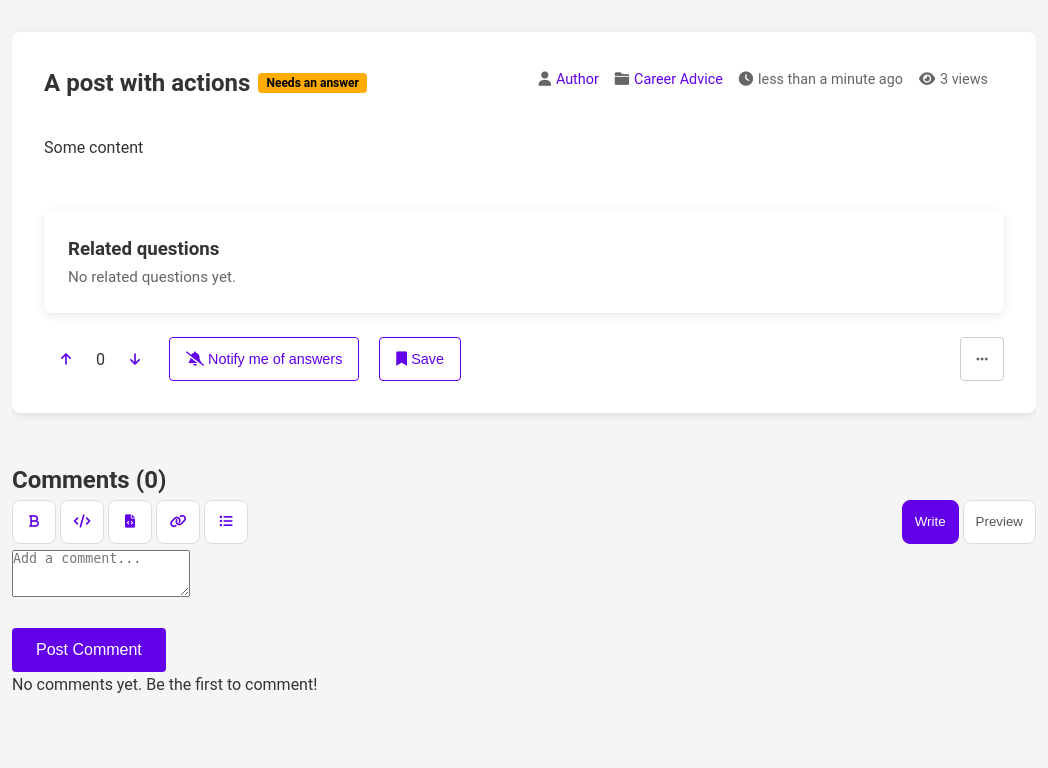
Test: PostDetail action row: inline reader actions vs. overflow menu › reveals Report behind the overflow toggle for a non-author reader, and nothing else
The image size is (1048, 768).
Check: the heading "A post with actions" is shown, box [44,64,250,102]
Click the button named "more actions" at (982, 359), box [960,337,1004,381]
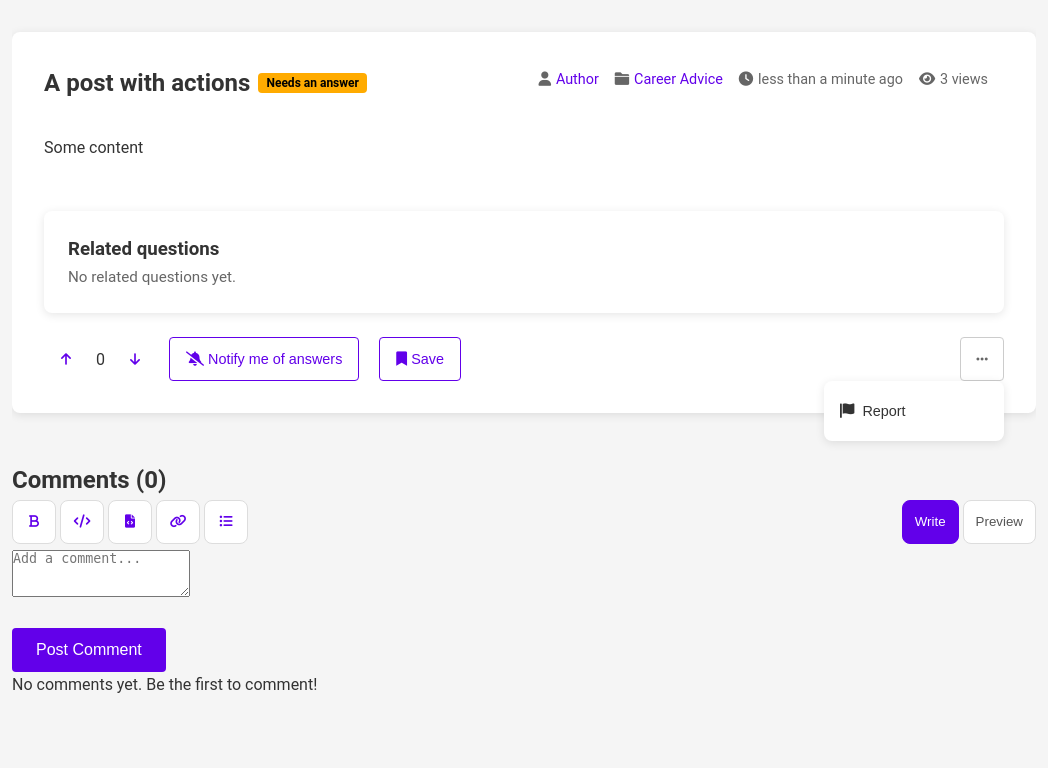
Check: the button "Report" is shown, box [824,389,1004,433]
